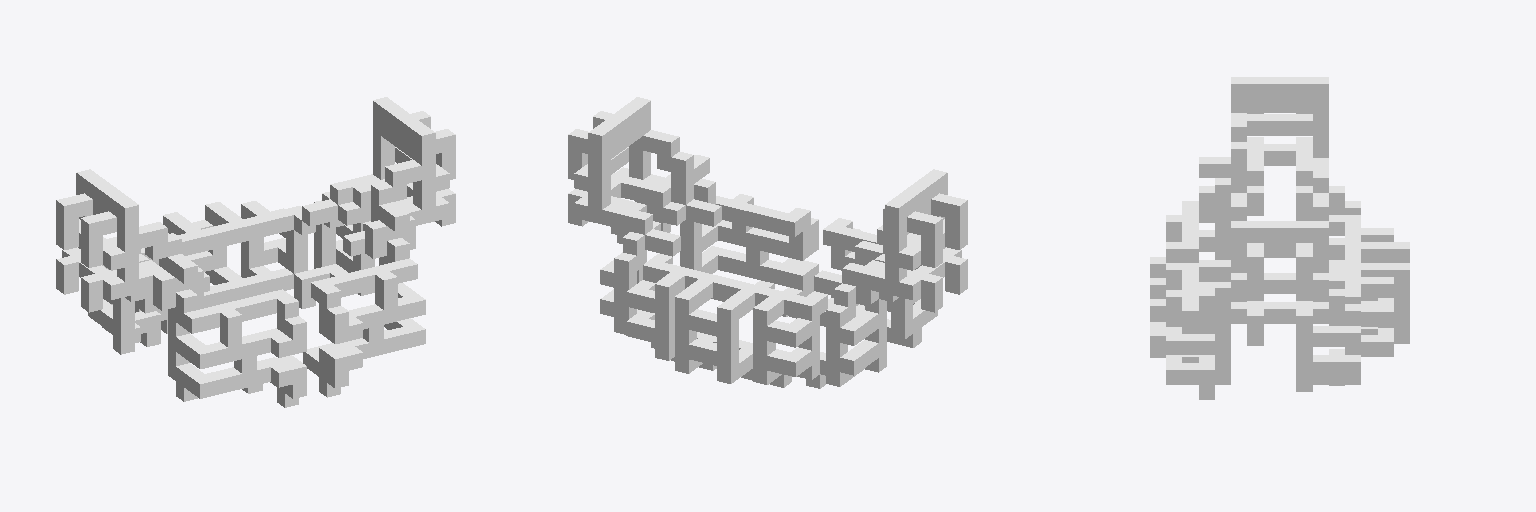
File: ShoulderArmor.obj
The picture shows the model from 3 angles: view 1: azimuth 30°, elevation 25°; view 2: azimuth 150°, elevation 25°; view 3: azimuth 270°, elevation 25°; orthographic projection.
Parts seen in each view (by area): view 1: object 1; view 2: object 1; view 3: object 1.
Boxes of the visible parts, <box> form: object 1: <box>56,97,455,407</box>; object 1: <box>568,97,967,388</box>; object 1: <box>1150,77,1409,399</box>.
Size of the model in its own units: 2.6 by 1.4 by 1.6.